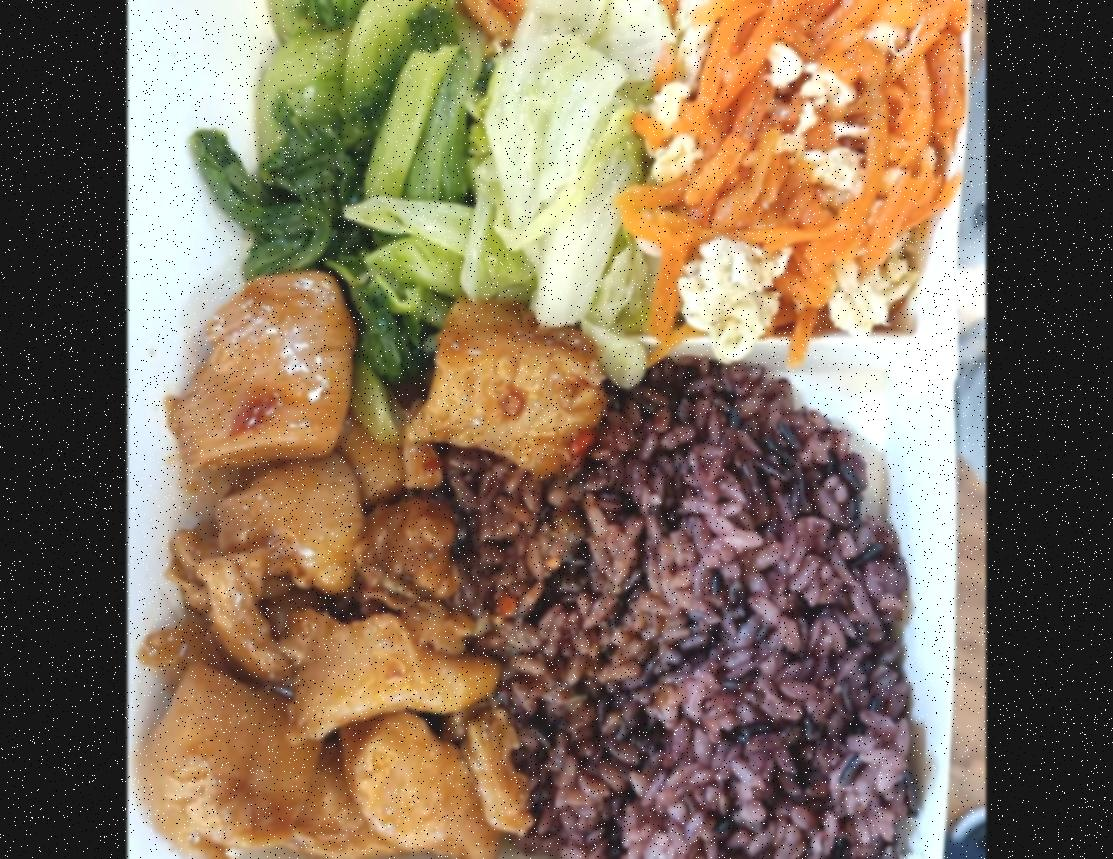big grilled chicken leg: (193, 0, 978, 859)
braised fish: (481, 361, 915, 859)
braised fish fillet: (196, 0, 514, 360), (650, 0, 956, 339), (478, 0, 667, 352)
braised pork: (133, 278, 589, 859)
